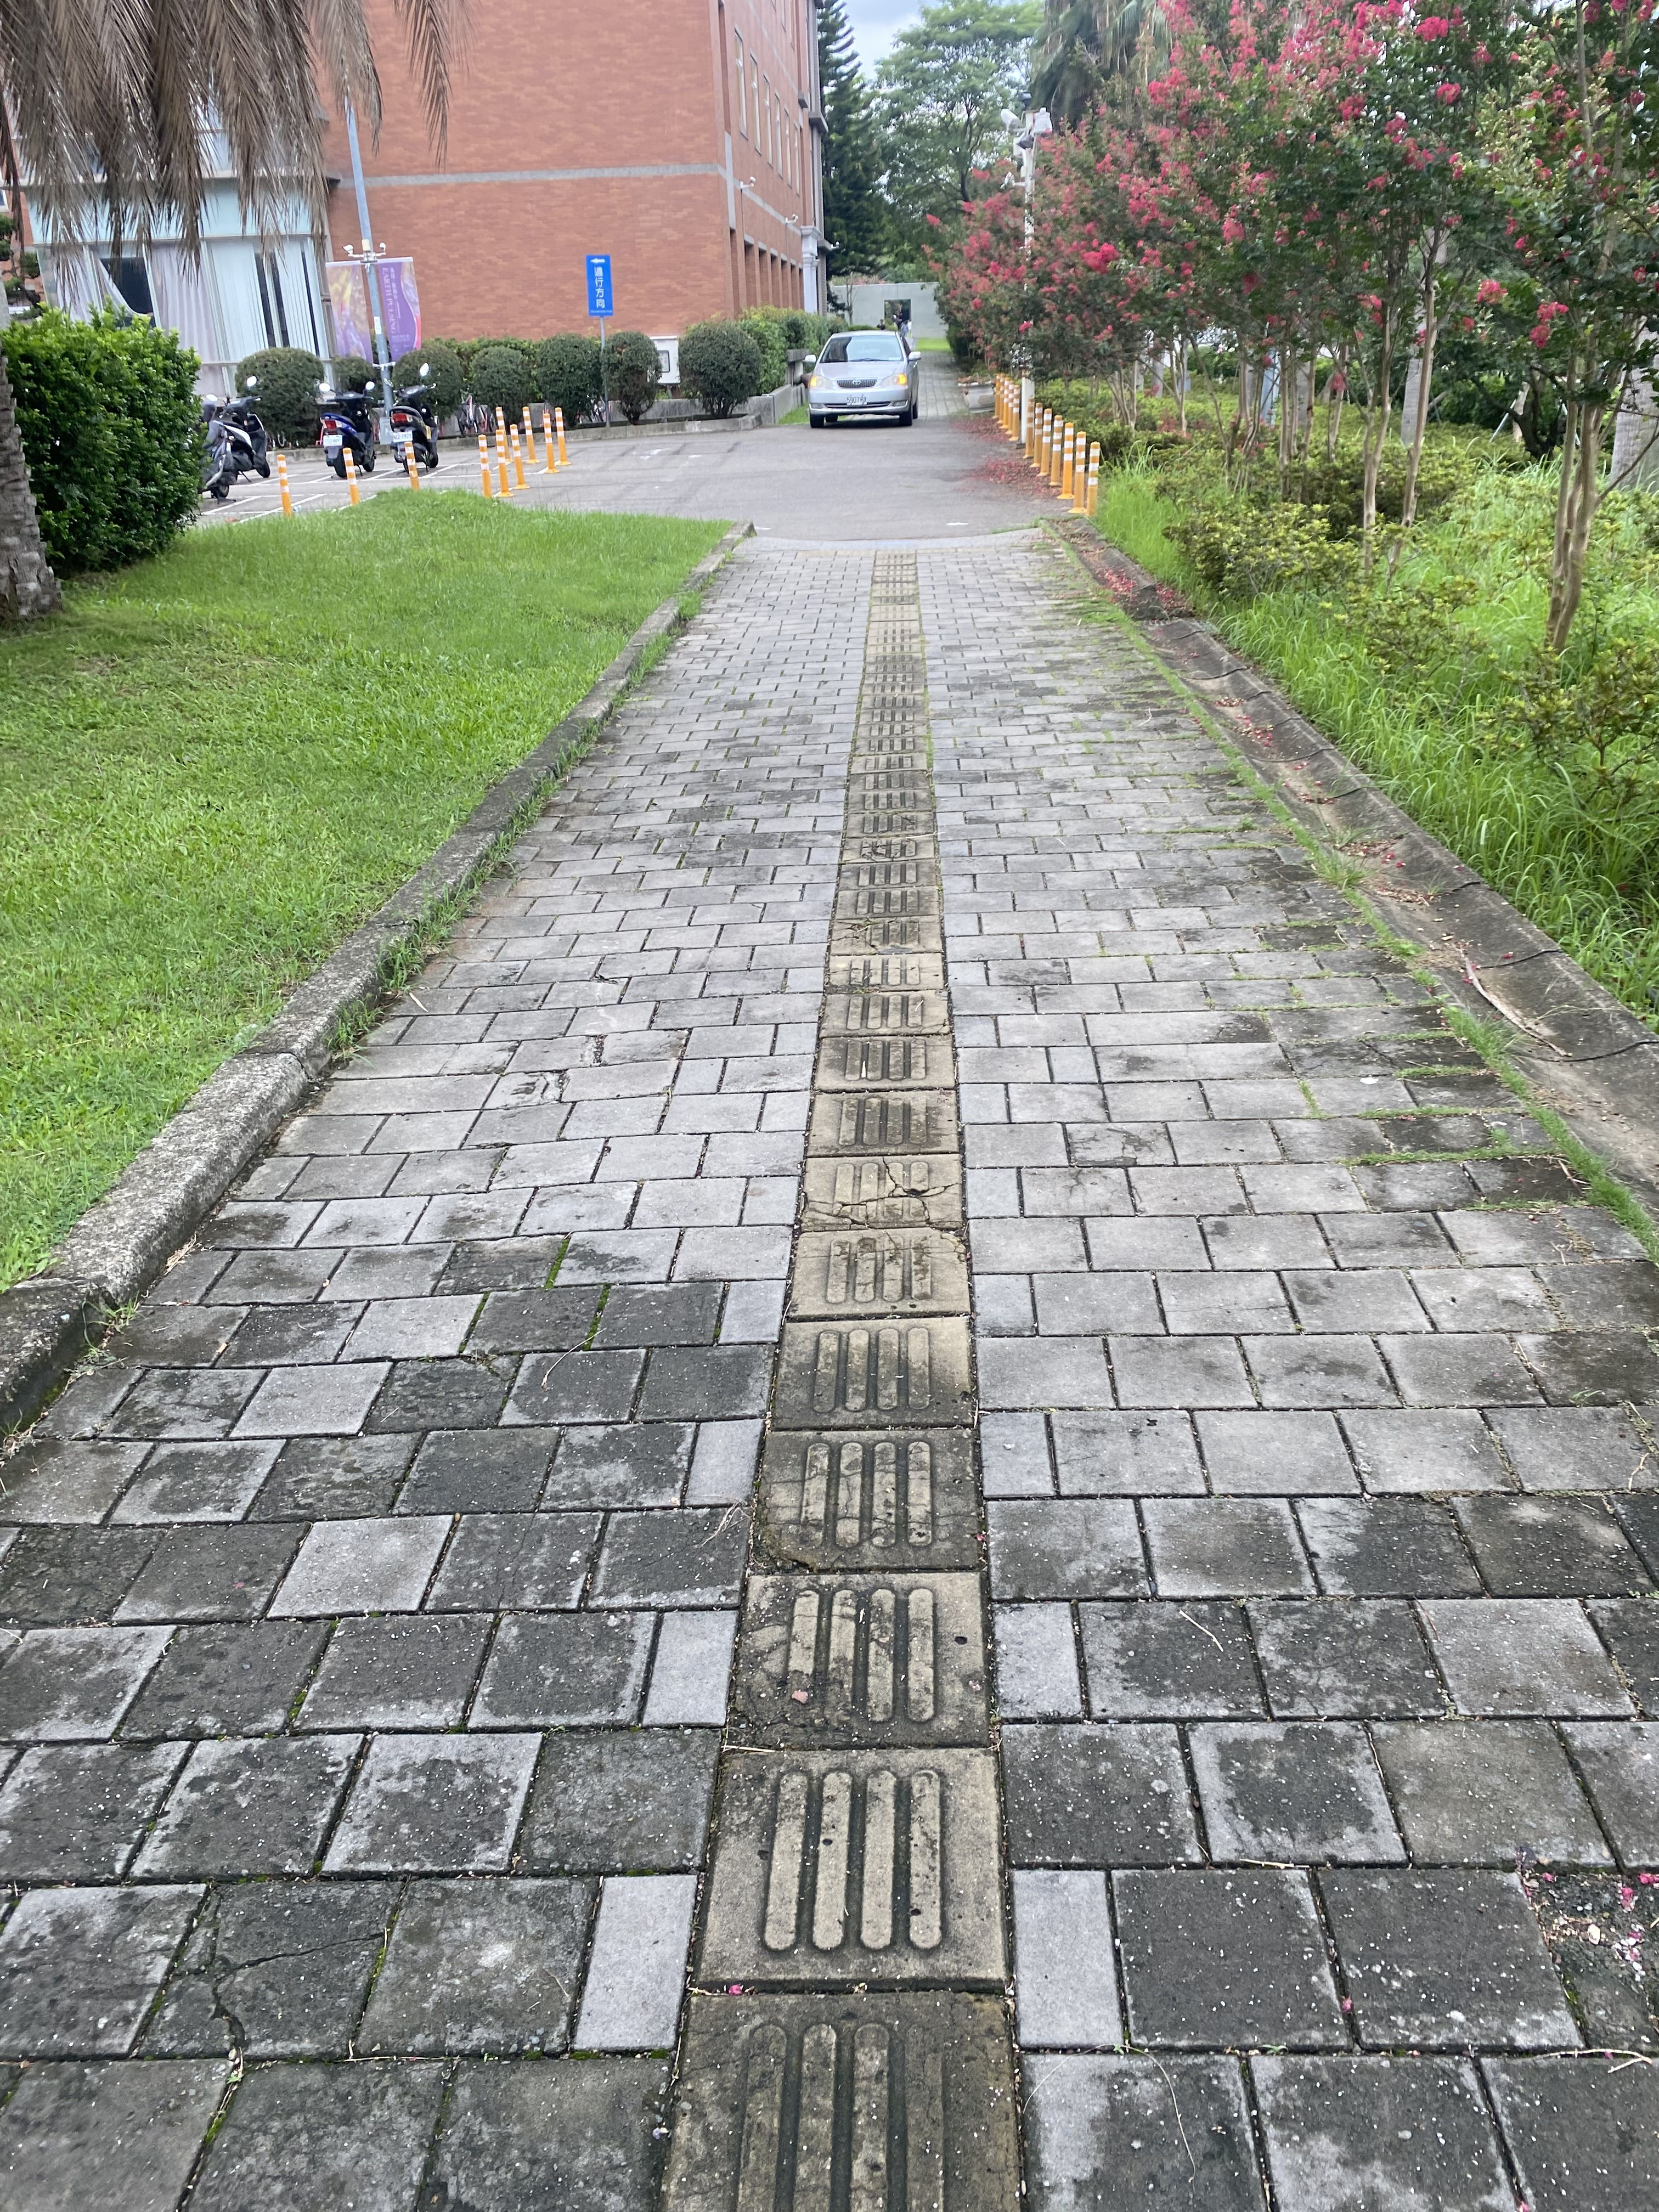sidewalk: (0, 524, 1659, 2186)
